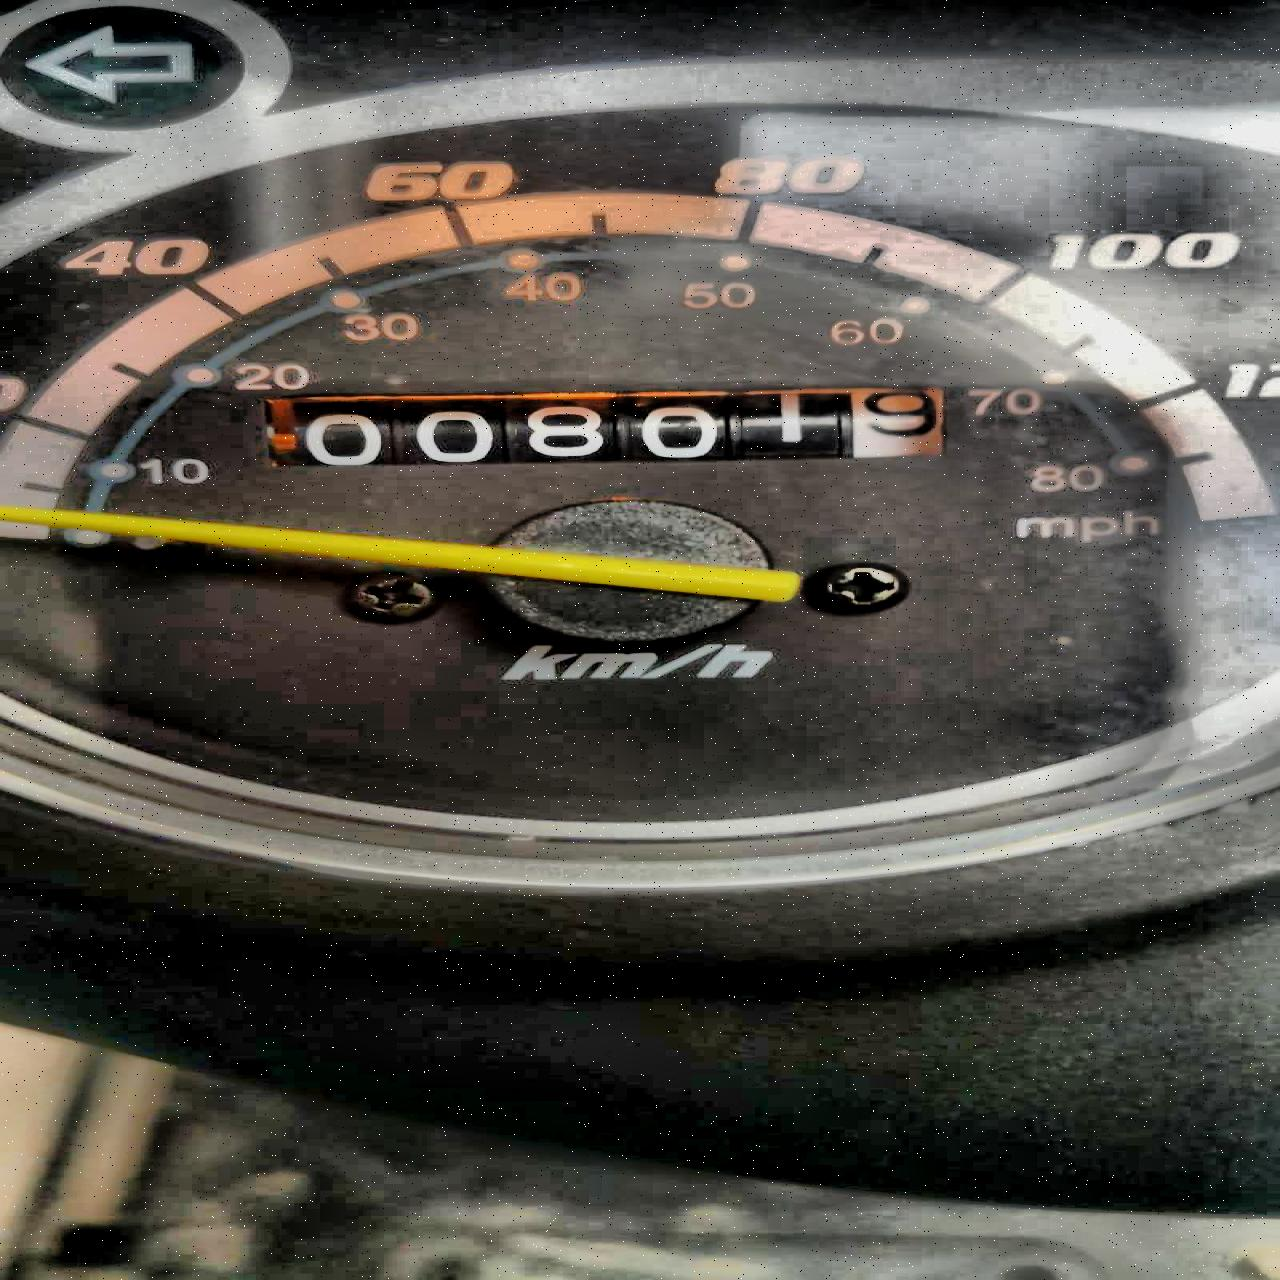0: (407, 408, 497, 465), (632, 403, 722, 459), (298, 410, 387, 467)
1: (755, 389, 819, 447)
8: (518, 402, 607, 458)
9: (856, 389, 941, 438)
odometer: (254, 384, 952, 469)
